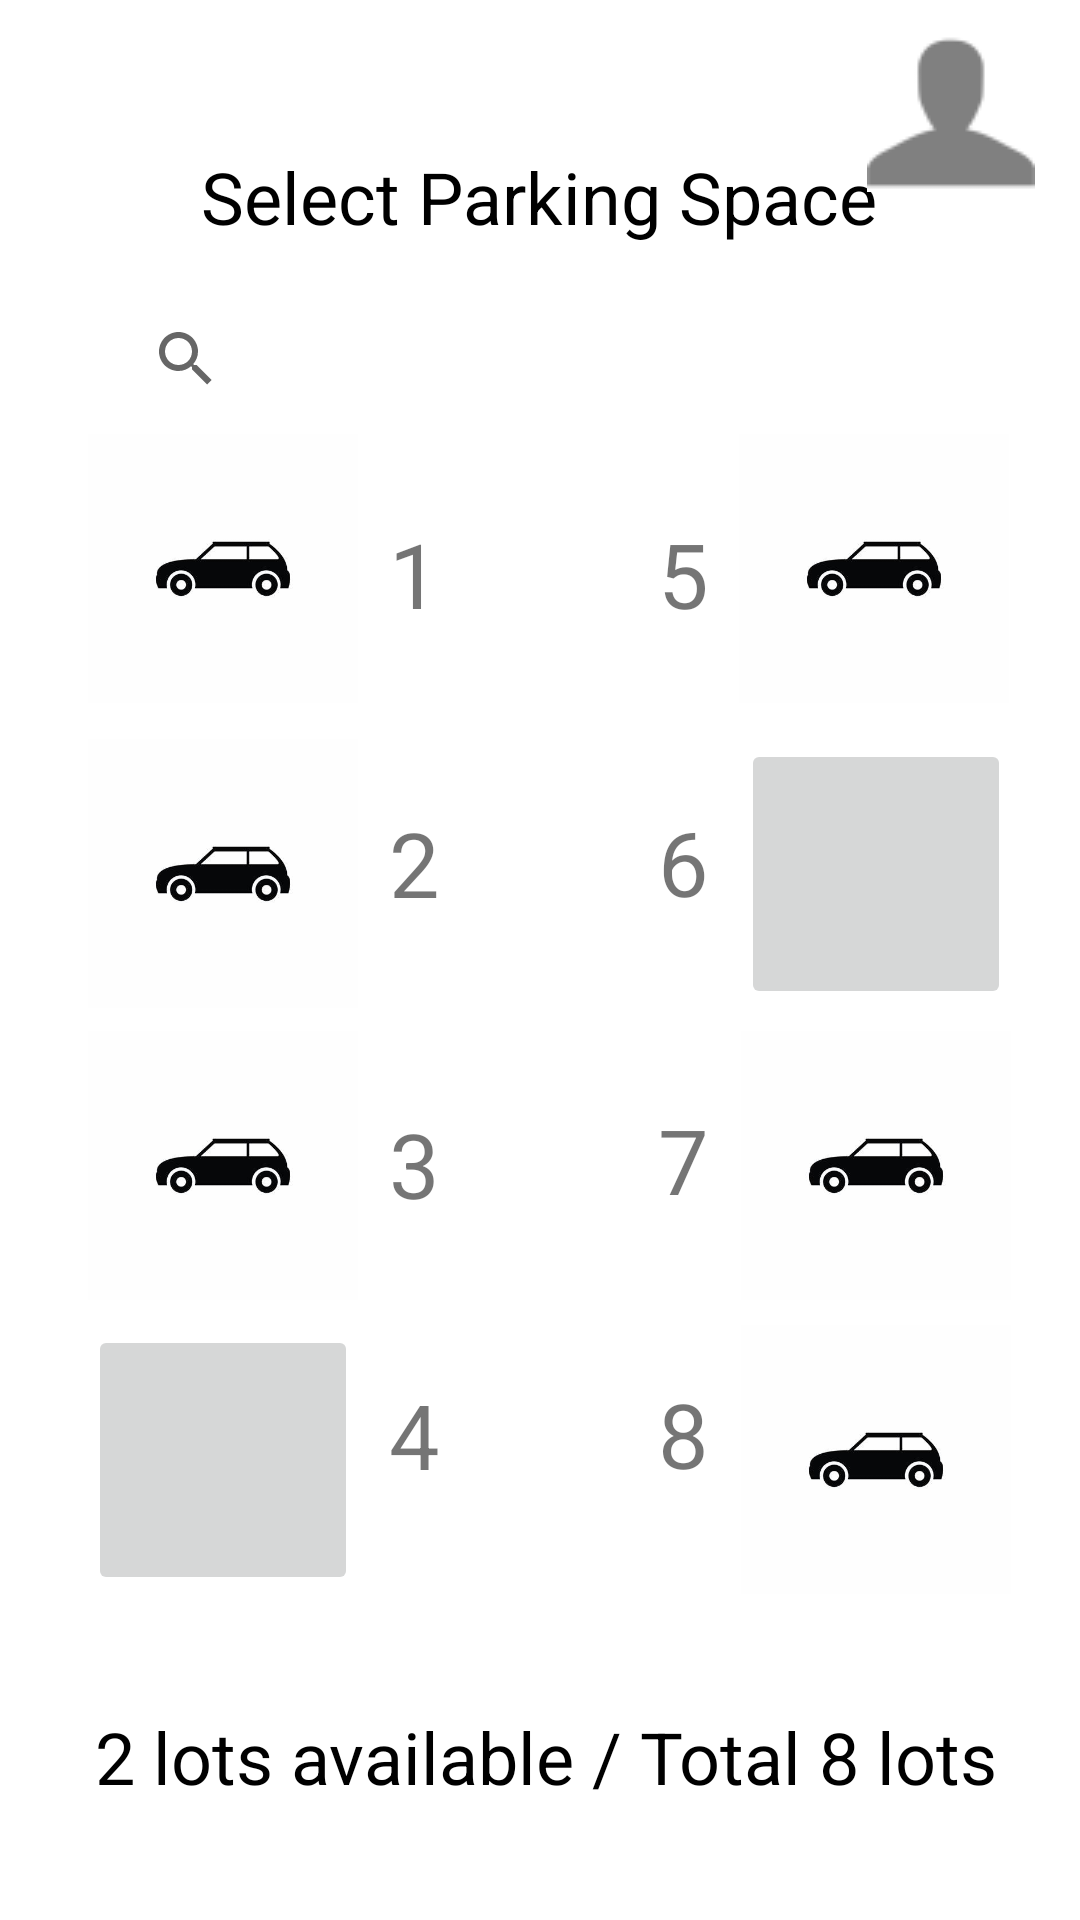

Icon click points for this 1080 x 1920 phone screenshot, format point (x, y):
car: point (223, 569), point (874, 569), point (223, 874), point (223, 1166), point (876, 1166), point (876, 1460)
profile: point (951, 113)
